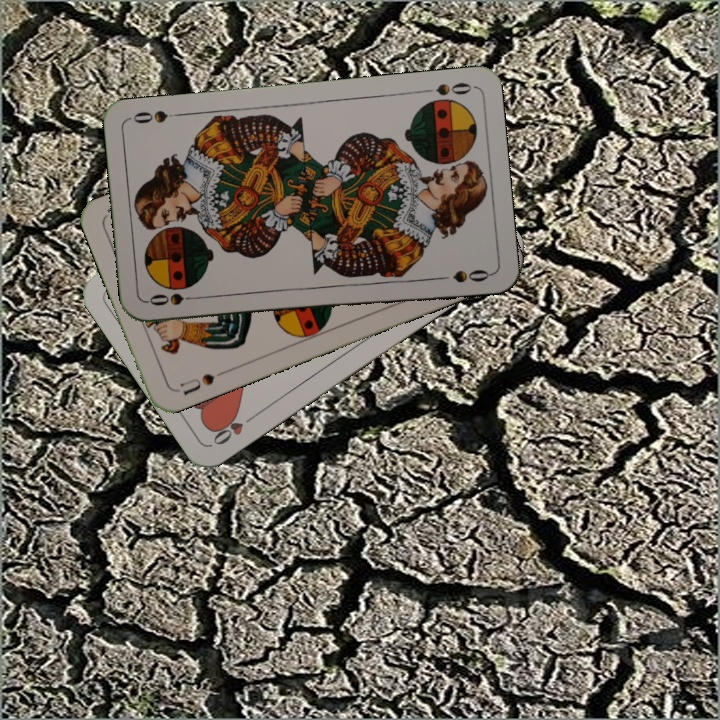HO: (208, 408, 261, 448)
SO: (416, 78, 474, 99), (145, 289, 204, 309)
SU: (172, 366, 229, 397)
